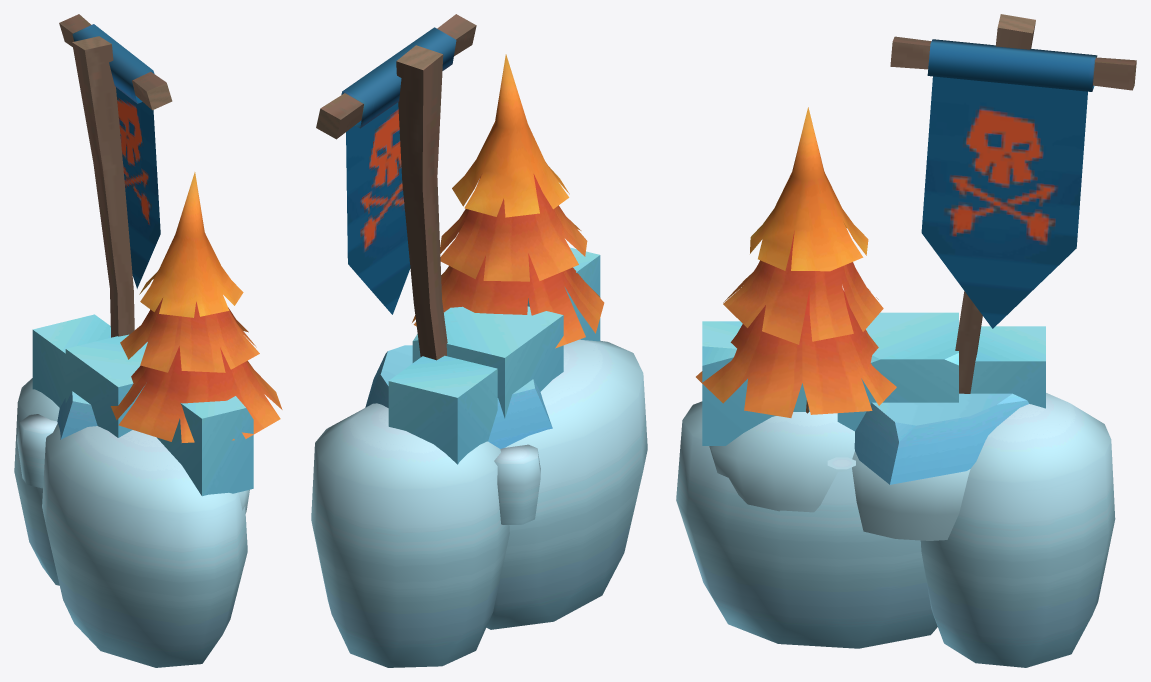
The model's file is Wall1B-002_40_12_4718.fbx.
3 renders of one model, left to right at view 1: azimuth 30°, elevation 25°; view 2: azimuth 150°, elevation 25°; view 3: azimuth 270°, elevation 25°, orthographic. The views are drawn at different scales.
Visible parts, largest first — view 1: Snowpile (7), Tree2 (1), Wall, Wood1.002 (1), Flag2 (2), Snowpile (6), Snowpile (5), ClothTop3 (2), WoodTop (2), Rock (2); view 2: Snowpile (6), Snowpile (7), Tree2 (1), Wall, Wood1.002 (1), Flag2 (2), Rock (2), ClothTop3 (2), Snowpile (5), WoodTop (2); view 3: Snowpile (6), Wall, Snowpile (7), Flag2 (2), Tree2 (1), Rock (2), ClothTop3 (2), Wood1.002 (1), WoodTop (2).
Boxes of the visible parts, left/top/right/bottom form: Snowpile (7): left=42, top=423, right=247, bottom=667; Tree2 (1): left=110, top=172, right=282, bottom=442; Wall: left=32, top=314, right=253, bottom=513; Wood1.002 (1): left=72, top=36, right=134, bottom=337; Flag2 (2): left=116, top=87, right=160, bottom=288; Snowpile (6): left=14, top=378, right=59, bottom=585; Snowpile (5): left=17, top=414, right=57, bottom=488; ClothTop3 (2): left=72, top=24, right=154, bottom=103; WoodTop (2): left=59, top=14, right=172, bottom=110; Rock (2): left=57, top=391, right=97, bottom=439; Snowpile (6): left=311, top=403, right=509, bottom=667; Snowpile (7): left=486, top=339, right=647, bottom=629; Tree2 (1): left=412, top=54, right=604, bottom=348; Wall: left=388, top=247, right=600, bottom=464; Wood1.002 (1): left=396, top=45, right=447, bottom=360; Flag2 (2): left=346, top=102, right=410, bottom=314; Rock (2): left=365, top=345, right=552, bottom=448; ClothTop3 (2): left=341, top=27, right=456, bottom=128; Snowpile (5): left=494, top=444, right=540, bottom=524; WoodTop (2): left=316, top=14, right=476, bottom=139; Snowpile (6): left=920, top=393, right=1115, bottom=667; Wall: left=702, top=312, right=1045, bottom=540; Snowpile (7): left=676, top=401, right=937, bottom=648; Flag2 (2): left=921, top=76, right=1087, bottom=328; Tree2 (1): left=696, top=107, right=896, bottom=417; Rock (2): left=854, top=393, right=1028, bottom=484; ClothTop3 (2): left=927, top=39, right=1097, bottom=91; Wood1.002 (1): left=955, top=14, right=1035, bottom=393; WoodTop (2): left=890, top=36, right=1136, bottom=90.
Bounding box in the file's own units: 2.28 × 5.78 × 3.95.
